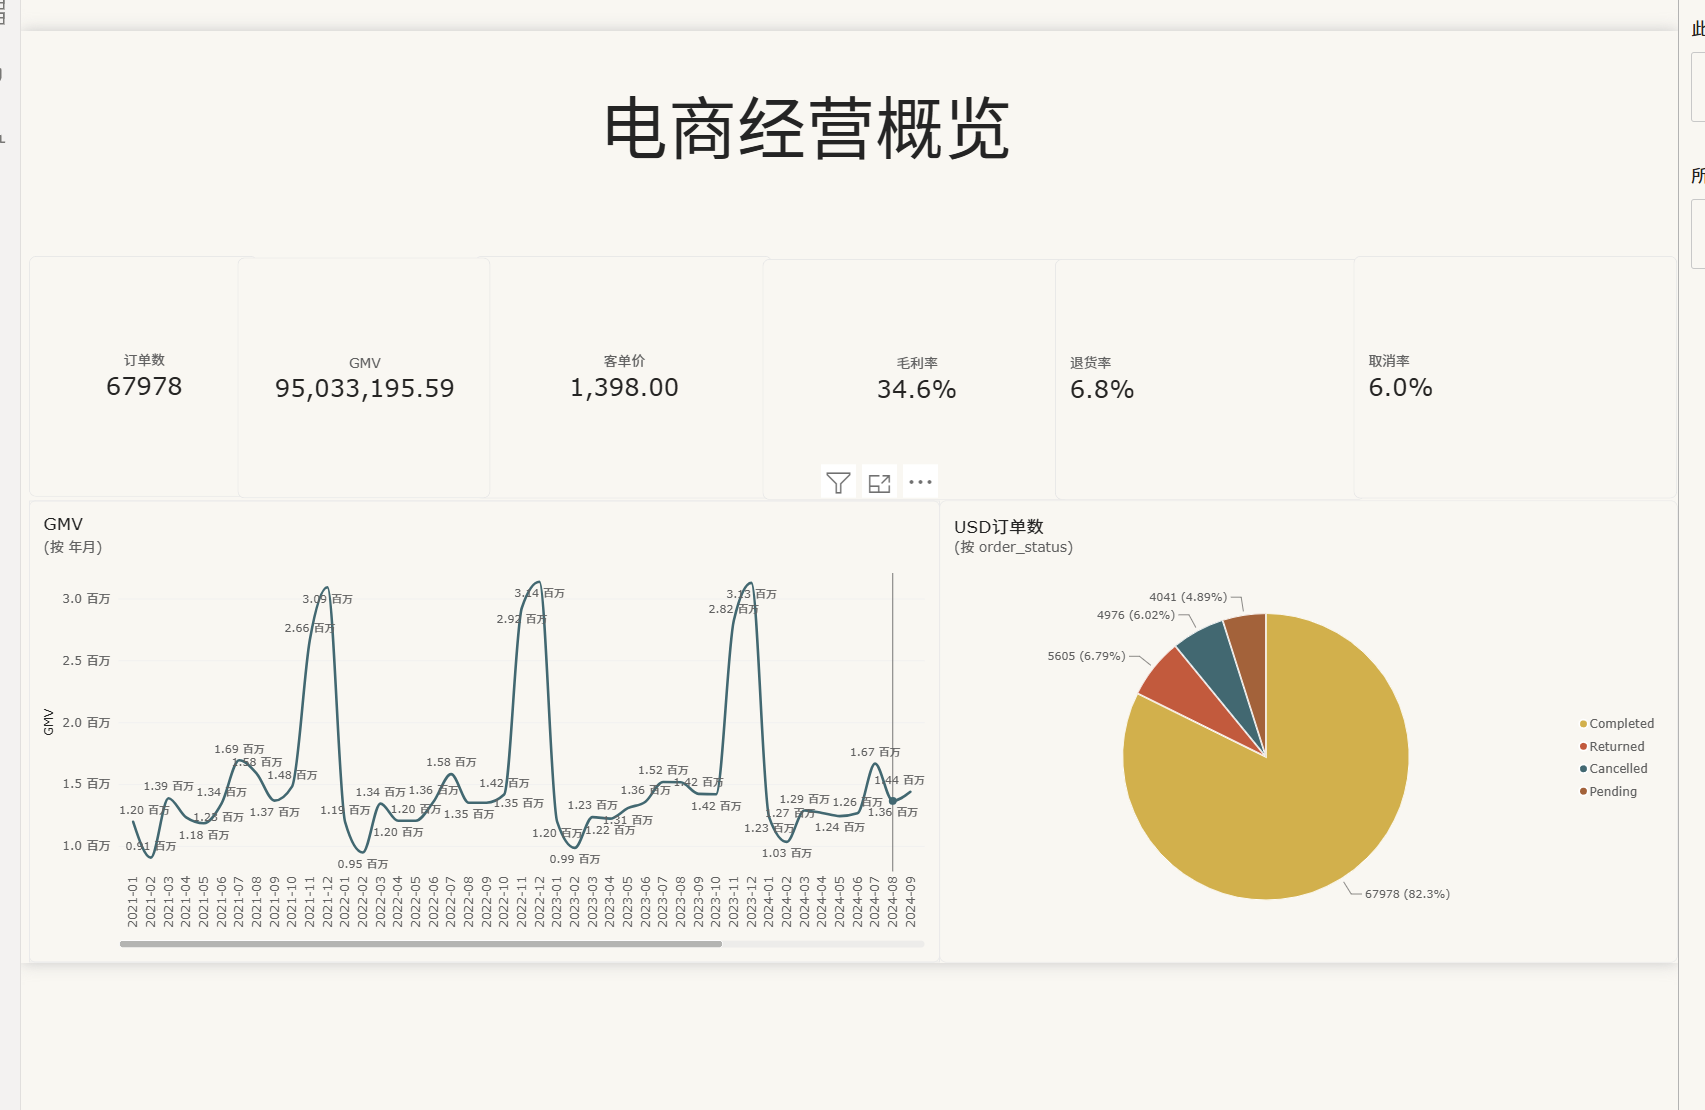

The dashboard page shown, as its layout file describes it:
{"tool":"powerbi","page":{"name":"经营概览","canvas":[1920,1080],"ordinal":0},"visuals":[{"type":"cardVisual","fields":{"Data":["ecommerce_sales_customer_analytics_150k.有效订单数"]},"box":[10.4,260.7,265.9,279.8],"z":0},{"type":"cardVisual","fields":{"Data":["ecommerce_sales_customer_analytics_150k.客单价"]},"box":[526.6,260.7,345.9,281.6],"z":1000},{"type":"cardVisual","fields":{"Data":["ecommerce_sales_customer_analytics_150k.毛利率"]},"box":[860.4,264.2,356.3,279.8],"z":2000},{"type":"cardVisual","fields":{"Data":["ecommerce_sales_customer_analytics_150k.GMV"]},"box":[252,262.5,293.7,279.8],"z":3000},{"type":"cardVisual","fields":{"Data":["ecommerce_sales_customer_analytics_150k.退货率"]},"box":[1199.3,264.2,359.8,279.8],"z":4000},{"type":"cardVisual","fields":{"Data":["ecommerce_sales_customer_analytics_150k.取消率"]},"box":[1545.2,260.7,375.4,281.6],"z":5000},{"type":"lineChart","fields":{"Category":["ecommerce_sales_customer_analytics_150k.年月"],"Y":["ecommerce_sales_customer_analytics_150k.GMV"]},"box":[10.4,544,1055,535.3],"z":6000},{"type":"pieChart","fields":{"Category":["ecommerce_sales_customer_analytics_150k.order_status"],"Y":["ecommerce_sales_customer_analytics_150k.USD订单数"]},"box":[1065.5,544,855.1,535.3],"z":7000},{"type":"textbox","box":[276.4,50.4,1268.8,156.4],"z":8000}]}

Visuals, with their boxes on the page's 1920x1080 design canvas (x1, y1, x2, y2). These are canvas units, not pixel positions in the 1705x1110 screenshot, which may show the page scaled, cropped or inside an application window:
cardVisual - ecommerce_sales_customer_analytics_150k.有效订单数: [10, 261, 276, 540]
cardVisual - ecommerce_sales_customer_analytics_150k.客单价: [527, 261, 872, 542]
cardVisual - ecommerce_sales_customer_analytics_150k.毛利率: [860, 264, 1217, 544]
cardVisual - ecommerce_sales_customer_analytics_150k.GMV: [252, 262, 546, 542]
cardVisual - ecommerce_sales_customer_analytics_150k.退货率: [1199, 264, 1559, 544]
cardVisual - ecommerce_sales_customer_analytics_150k.取消率: [1545, 261, 1921, 542]
lineChart - ecommerce_sales_customer_analytics_150k.年月 x ecommerce_sales_customer_analytics_150k.GMV: [10, 544, 1065, 1079]
pieChart - ecommerce_sales_customer_analytics_150k.order_status x ecommerce_sales_customer_analytics_150k.USD订单数: [1066, 544, 1921, 1079]
textbox: [276, 50, 1545, 207]
